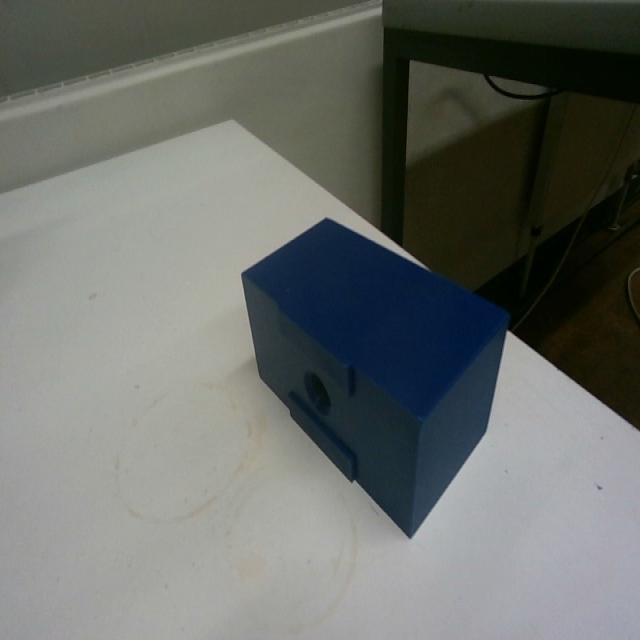Blue Cuboid: (238, 212, 511, 539)
